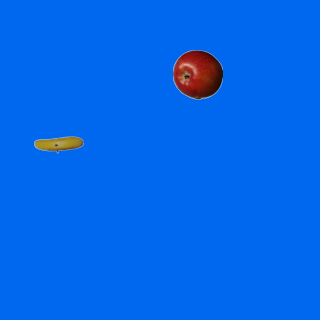Apple Braeburn: (172, 49, 222, 99)
Banana: (33, 119, 83, 169)
